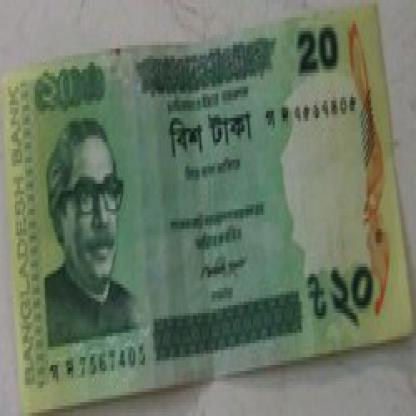Twenty: (306, 263, 384, 326), (165, 111, 261, 149), (288, 24, 344, 80), (31, 73, 112, 107)
